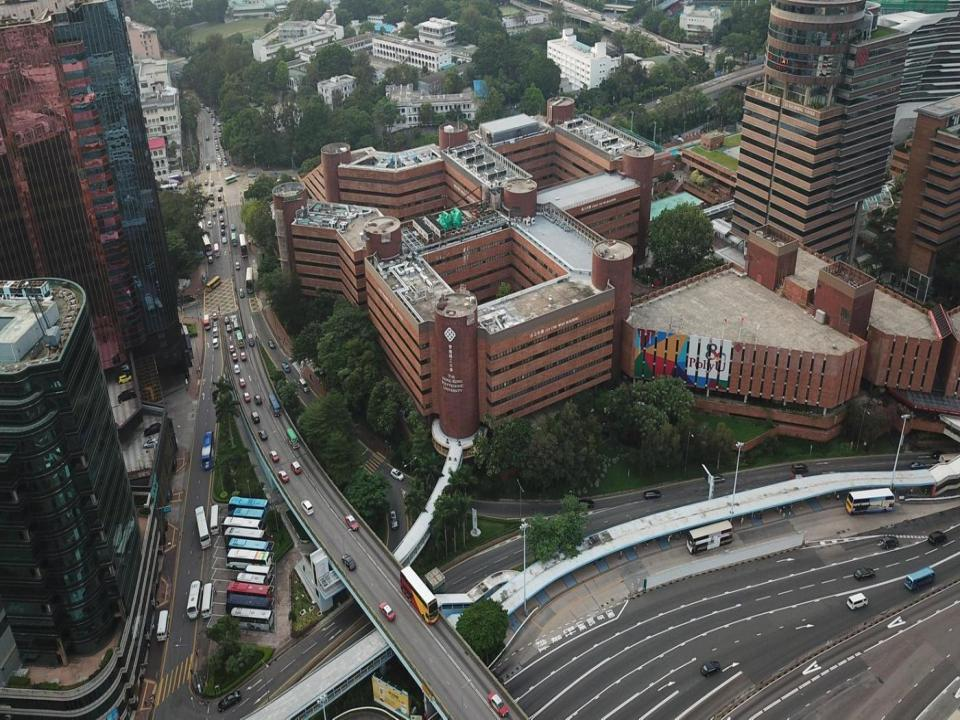bus: (400, 565, 439, 626), (686, 519, 733, 554), (845, 487, 895, 516), (223, 525, 266, 554), (228, 536, 271, 564), (226, 495, 270, 522), (220, 515, 266, 540), (224, 581, 274, 604), (224, 593, 272, 616), (230, 607, 273, 631), (225, 548, 271, 570), (232, 507, 267, 529), (194, 505, 211, 550), (186, 580, 204, 620), (904, 566, 934, 590), (235, 571, 268, 592), (201, 430, 215, 470), (244, 565, 271, 583), (202, 582, 213, 618), (148, 183, 178, 196), (938, 453, 960, 470), (157, 610, 169, 640), (209, 503, 220, 534), (285, 426, 300, 448), (269, 393, 281, 417), (206, 276, 222, 292), (238, 233, 248, 257), (201, 233, 211, 256), (246, 267, 255, 292), (223, 174, 238, 184), (236, 331, 244, 347), (232, 319, 239, 335), (204, 314, 210, 330), (231, 231, 237, 246), (214, 242, 219, 257)
car: (488, 691, 508, 716), (218, 691, 241, 712), (379, 602, 395, 621), (700, 661, 720, 675), (854, 568, 876, 580), (345, 513, 359, 531), (341, 554, 356, 570), (575, 499, 594, 510), (113, 362, 130, 373), (708, 474, 725, 484), (390, 468, 403, 480), (118, 373, 132, 384), (390, 510, 398, 529), (116, 370, 132, 379), (931, 450, 947, 459), (909, 461, 925, 470), (269, 450, 280, 462), (278, 470, 288, 483), (790, 474, 806, 481), (281, 362, 291, 373), (258, 430, 267, 440), (238, 378, 246, 388), (254, 394, 262, 404), (243, 392, 250, 403), (267, 339, 275, 348), (233, 364, 240, 373), (240, 351, 246, 360), (231, 314, 237, 322), (229, 344, 235, 352), (232, 352, 237, 361), (217, 185, 223, 192), (230, 224, 236, 231), (221, 236, 227, 243), (232, 172, 240, 177), (235, 262, 240, 270), (212, 312, 217, 320), (213, 321, 218, 329), (224, 316, 229, 324), (226, 324, 231, 332), (212, 210, 216, 217), (217, 195, 221, 201), (204, 180, 208, 185), (220, 216, 224, 221), (210, 180, 213, 185), (206, 134, 208, 140)
truck: (168, 174, 184, 184)
van: (846, 592, 868, 610), (927, 531, 946, 545), (118, 388, 135, 403), (880, 536, 898, 548), (792, 463, 809, 474), (290, 460, 302, 475), (301, 499, 313, 514), (644, 490, 660, 499), (250, 410, 260, 424), (182, 294, 195, 304), (300, 377, 308, 393), (248, 333, 255, 346), (213, 326, 218, 337), (213, 337, 218, 348), (239, 288, 244, 298), (248, 172, 256, 177), (207, 220, 212, 228), (209, 201, 214, 207), (208, 256, 212, 263), (206, 163, 210, 169), (210, 191, 213, 197), (221, 222, 224, 228), (219, 207, 223, 211), (222, 229, 224, 236)
